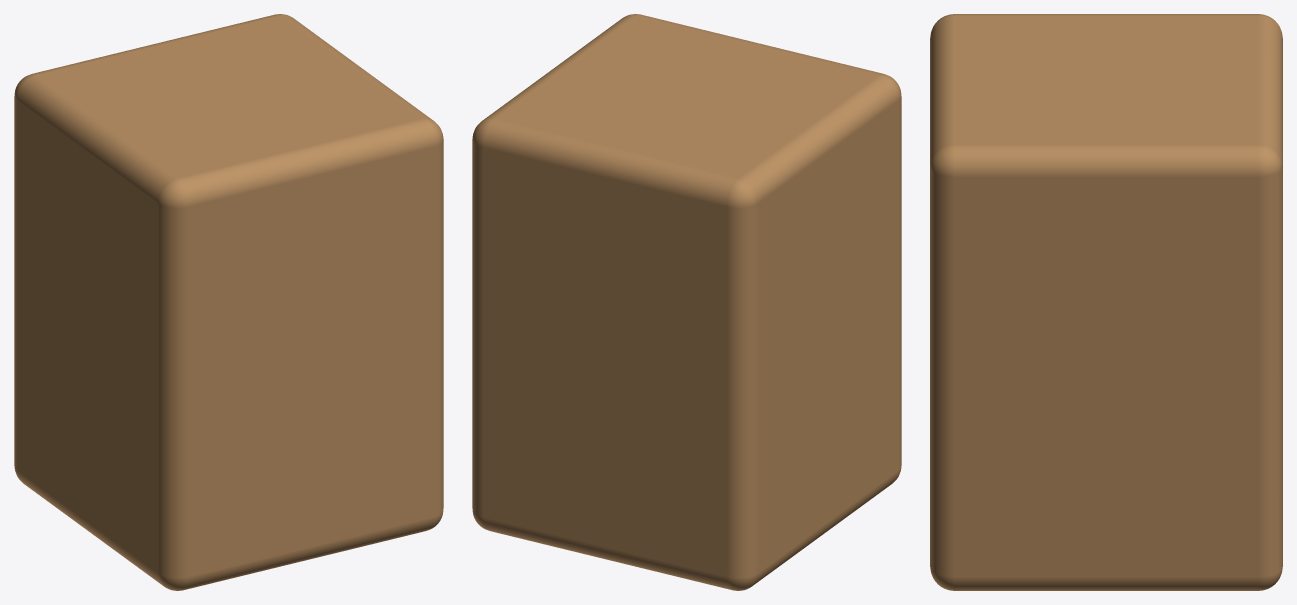
File: sideTable-3.glb
3 views of the same model, side by side, from view 1: azimuth 30°, elevation 25°; view 2: azimuth 150°, elevation 25°; view 3: azimuth 270°, elevation 25° (orthographic). The views are drawn at different scales.
Visible parts, largest first — view 1: sideTable:3:archviz; view 2: sideTable:3:archviz; view 3: sideTable:3:archviz.
Boxes of the visible parts, x1,y1,x2,y2 form: sideTable:3:archviz: (14, 14, 443, 590); sideTable:3:archviz: (472, 14, 901, 590); sideTable:3:archviz: (930, 14, 1282, 590).
Bounding box in the file's own units: 0.36 × 0.5 × 0.36.
